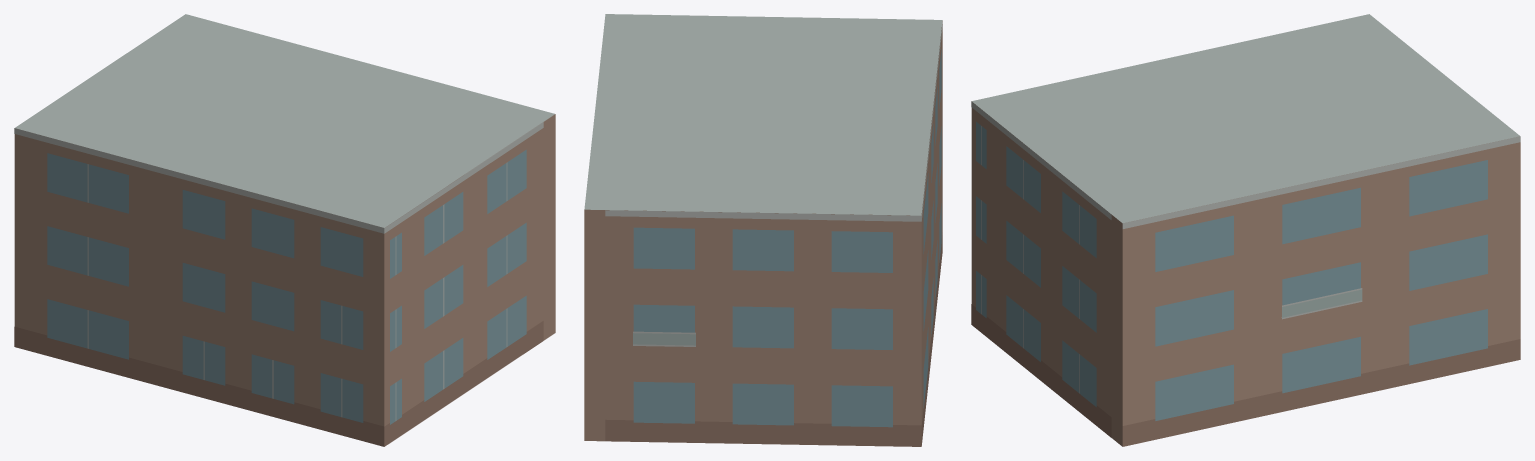
The model's file is survey-upis-32471150.glb.
3 views of the same model, side by side, from view 1: azimuth 30°, elevation 25°; view 2: azimuth 150°, elevation 25°; view 3: azimuth 270°, elevation 25° (orthographic). The views are drawn at different scales.
Visible parts, largest first — view 1: survey-upis-32471150.tmp; view 2: survey-upis-32471150.tmp; view 3: survey-upis-32471150.tmp.
Part boxes in pixels (x1=…): survey-upis-32471150.tmp: x1=14, y1=14, x2=555, y2=446; survey-upis-32471150.tmp: x1=584, y1=14, x2=942, y2=446; survey-upis-32471150.tmp: x1=971, y1=14, x2=1520, y2=446.
Bounding box in the file's own units: 18.39 × 9.15 × 20.37.
